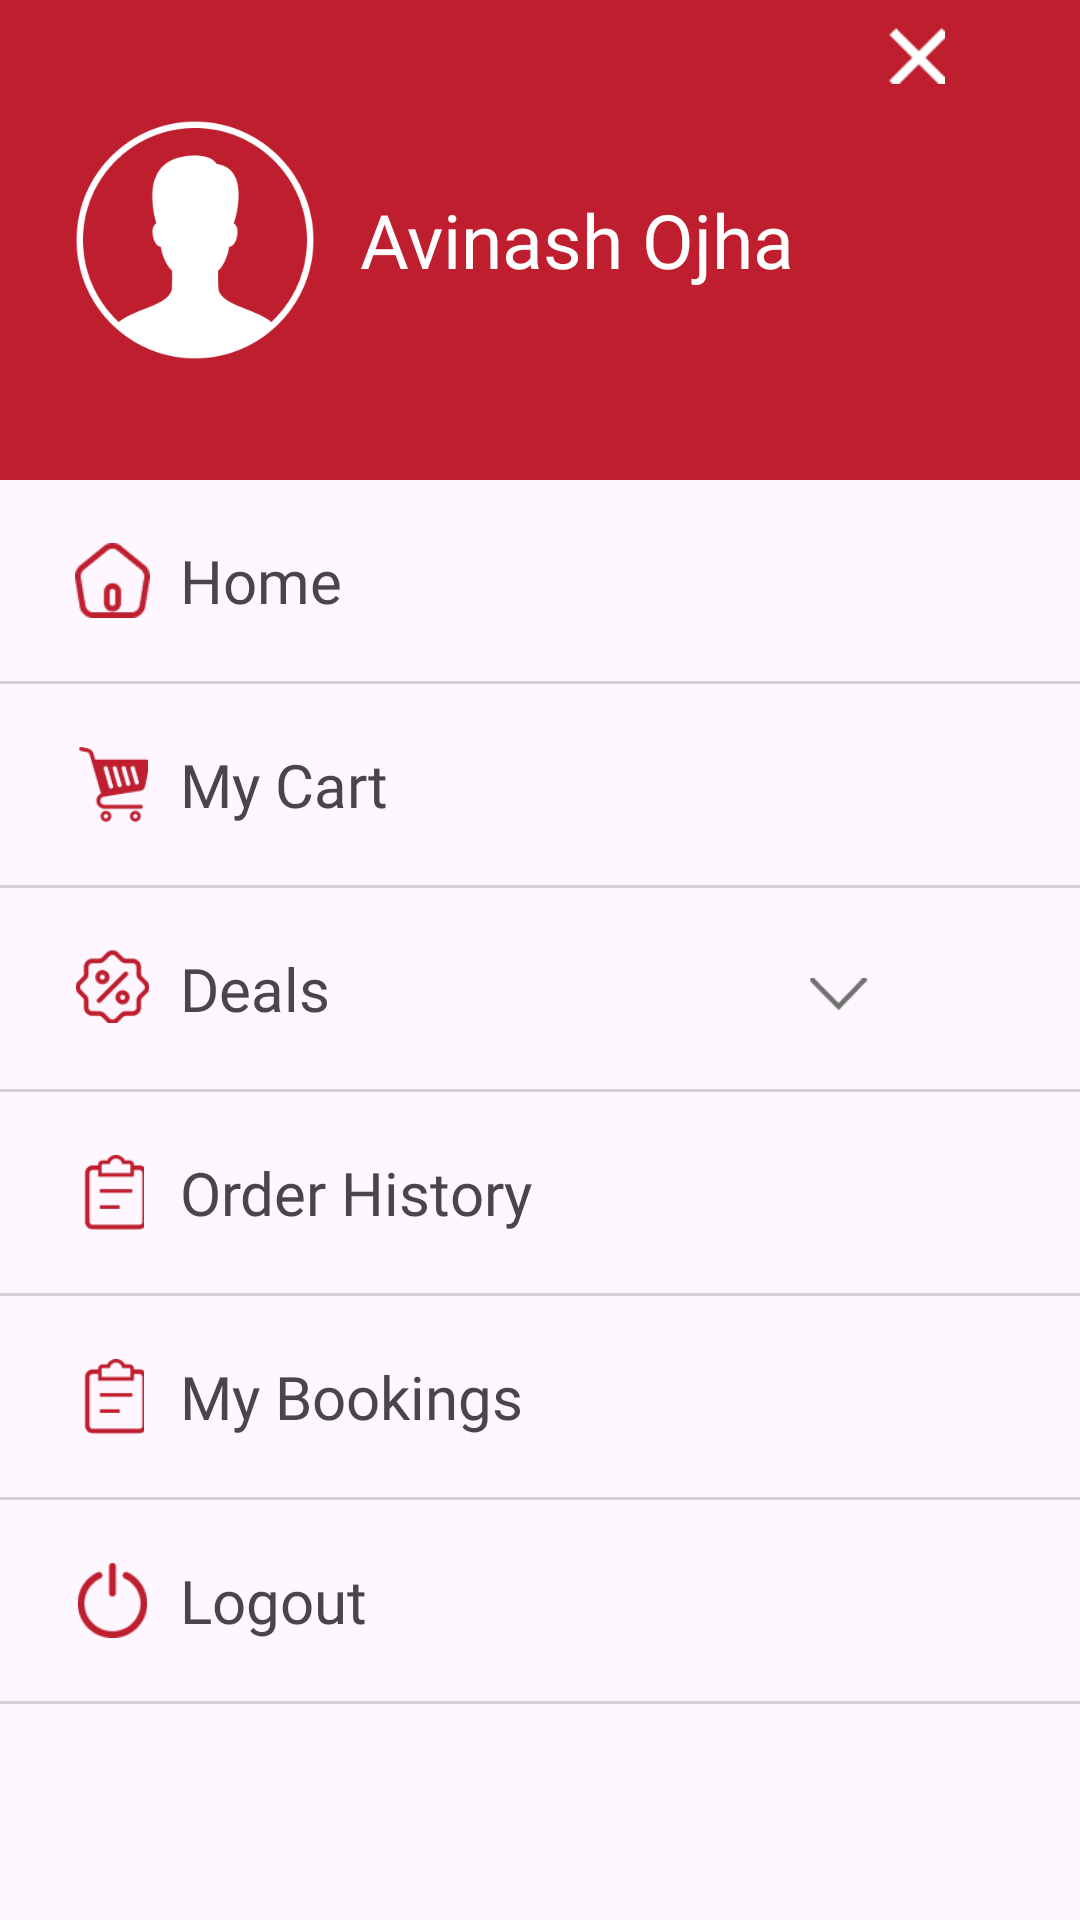

Locate icon controls on the screen. Image size 1080 × 1920, boxes as [x1, y1, x2, y2].
close: [889, 28, 945, 84]
order booking: [84, 1155, 144, 1230], [84, 1359, 144, 1434]
user male: [76, 121, 314, 359]
